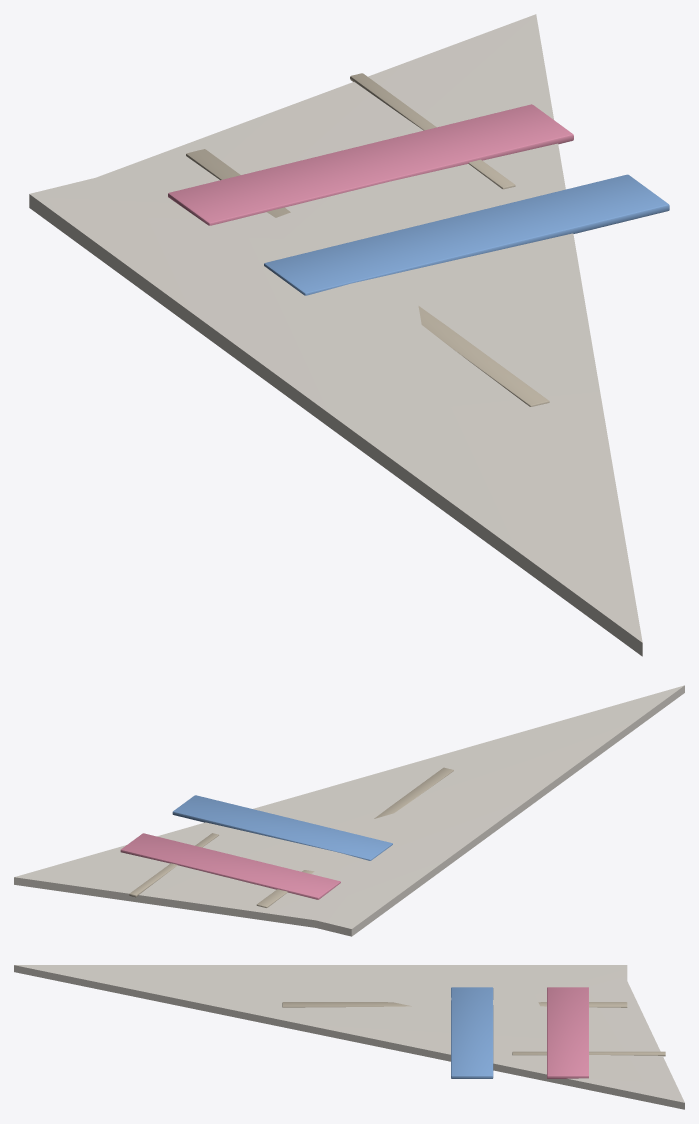
Rendered from Plane_WingR.fbx.
The picture shows the model from 3 angles, top to bottom: view 1: azimuth 30°, elevation 25°; view 2: azimuth 150°, elevation 25°; view 3: azimuth 270°, elevation 25°; orthographic projection. The views are drawn at different scales.
Visible parts, largest first — view 1: Plane_WingR; view 2: Plane_WingR; view 3: Plane_WingR.
Boxes of the visible parts, x1,y1,x2,y2 form: Plane_WingR: (29, 14, 669, 656); Plane_WingR: (14, 685, 684, 936); Plane_WingR: (14, 965, 684, 1109).
Size of the model in its own units: 0.17 by 0.0067 by 0.35.
